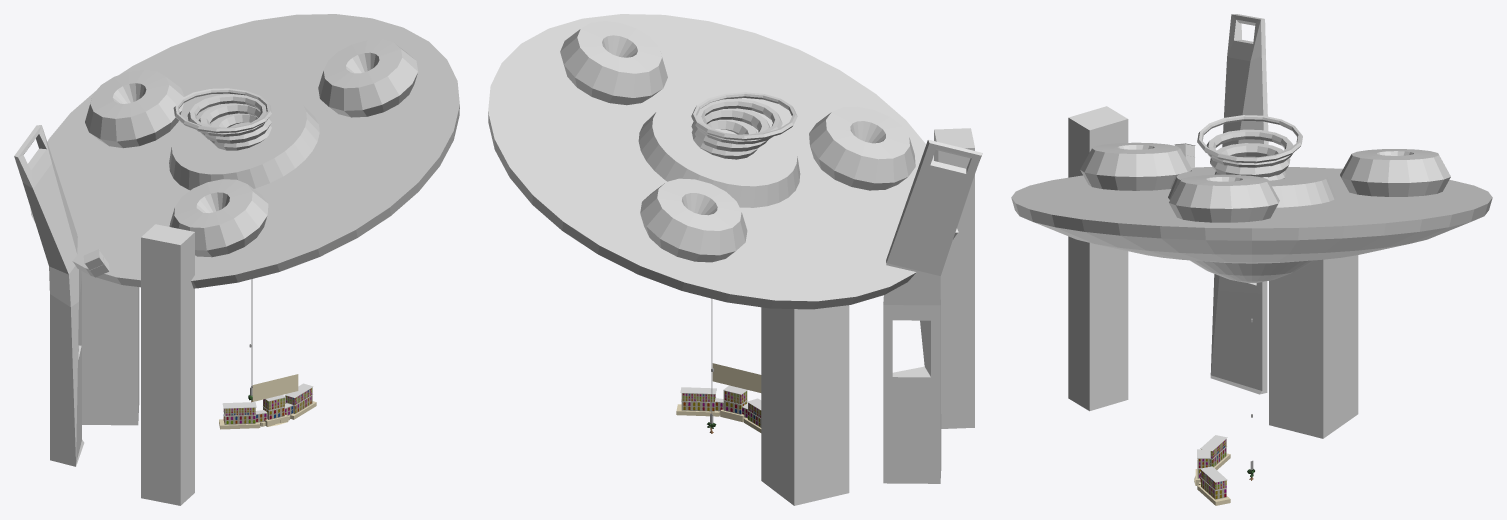
File: ali enterprise.fbx
3 renders of one model, left to right at view 1: azimuth 30°, elevation 25°; view 2: azimuth 150°, elevation 25°; view 3: azimuth 270°, elevation 25°, orthographic. The views are drawn at different scales.
Parts seen in each view (by area): view 1: ali enterprise; view 2: ali enterprise; view 3: ali enterprise.
Part boxes in pixels (bbox=[...]): ali enterprise: bbox=[14, 14, 459, 505]; ali enterprise: bbox=[488, 14, 982, 505]; ali enterprise: bbox=[1011, 14, 1492, 505].
Size of the model in its own units: 43242 by 33100 by 39679.
